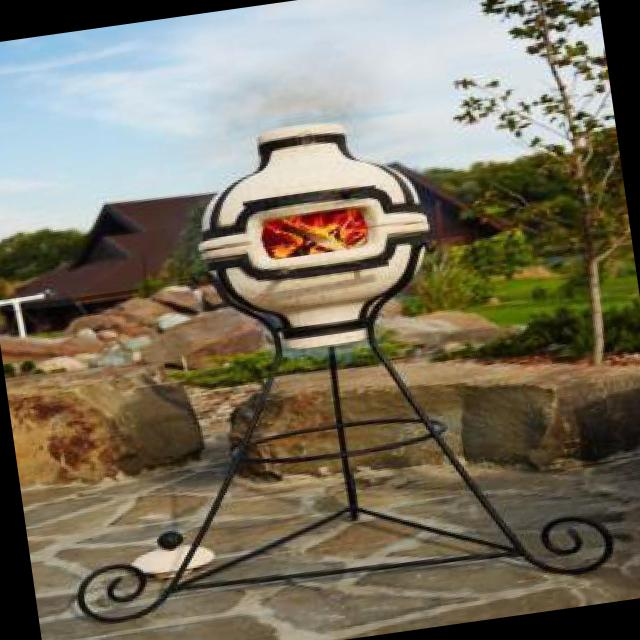Fire: (260, 204, 380, 271)
